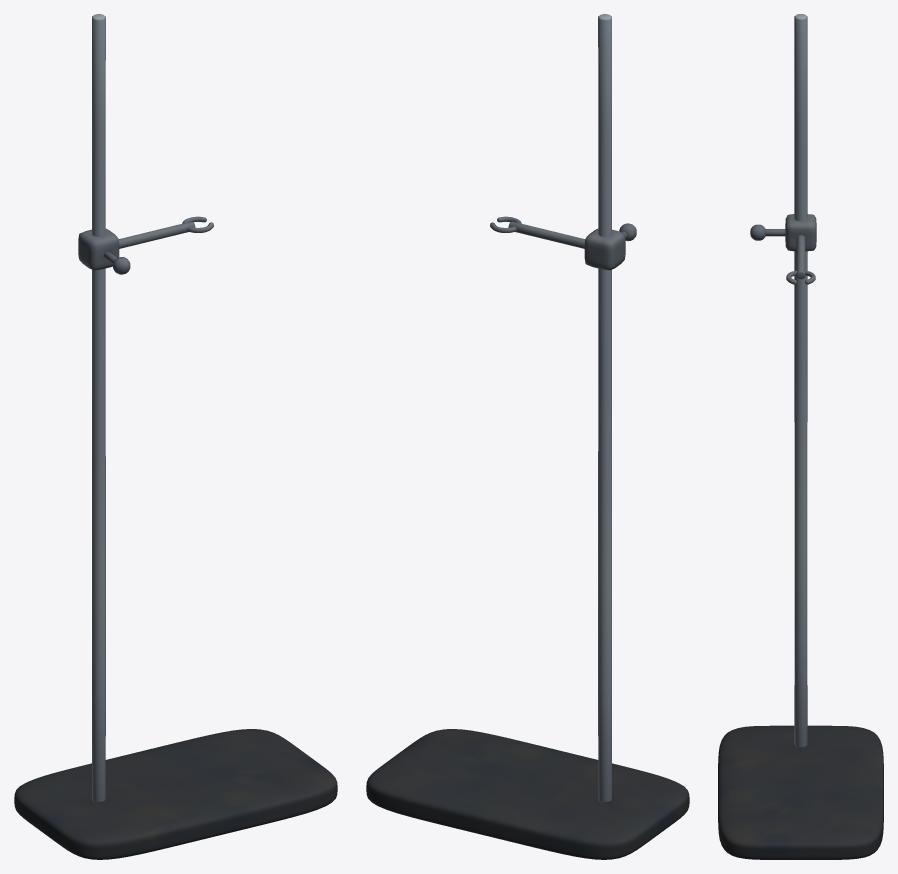
File: burette-stand.glb
3 views of the same model, side by side, from view 1: azimuth 30°, elevation 25°; view 2: azimuth 150°, elevation 25°; view 3: azimuth 270°, elevation 25° (orthographic). The views are drawn at different scales.
Parts seen in each view (by area): view 1: burette-stand-base, burette-stand-rod, burette-stand-clamp; view 2: burette-stand-base, burette-stand-rod, burette-stand-clamp; view 3: burette-stand-base, burette-stand-rod, burette-stand-clamp.
Part boxes in pixels (<box>): burette-stand-base: <box>14,729,337,859</box>; burette-stand-rod: <box>92,14,105,802</box>; burette-stand-clamp: <box>78,216,213,274</box>; burette-stand-base: <box>366,729,689,859</box>; burette-stand-rod: <box>598,14,611,802</box>; burette-stand-clamp: <box>490,216,636,270</box>; burette-stand-base: <box>718,725,883,859</box>; burette-stand-rod: <box>794,14,807,747</box>; burette-stand-clamp: <box>750,214,816,284</box>.
Size of what is drawn, in the model's own units: 24 by 70.19 by 14.
